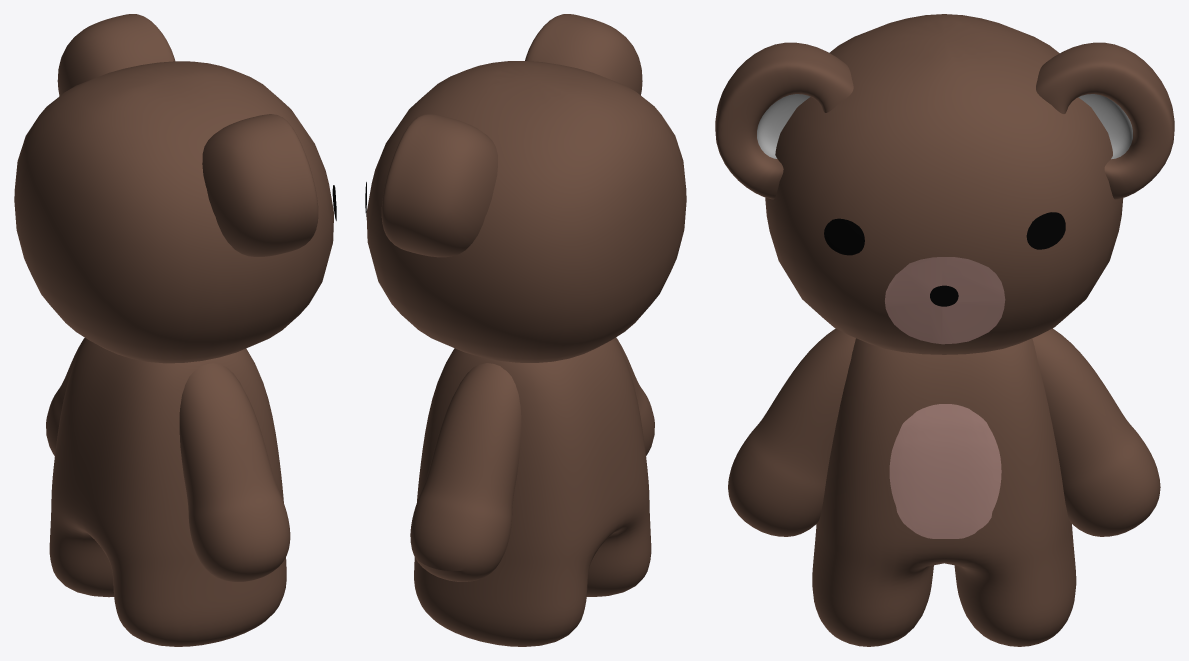
Rendered from doll_bear.fbx.
The picture shows the model from 3 angles, left to right: view 1: azimuth 30°, elevation 25°; view 2: azimuth 150°, elevation 25°; view 3: azimuth 270°, elevation 25°; orthographic projection. The views are drawn at different scales.
Parts seen in each view (by area): view 1: head, body, ear_left, ear_right; view 2: head, body, ear_right, ear_left; view 3: body, head, stomache, ear_right, ear_left, eye_right.002, eye_left.002, eye_right002.
Part boxes in pixels (x1=…): head: x1=14, y1=61, x2=334, y2=363; body: x1=46, y1=338, x2=290, y2=646; ear_left: x1=202, y1=114, x2=318, y2=256; ear_right: x1=57, y1=14, x2=175, y2=96; head: x1=366, y1=61, x2=686, y2=362; body: x1=410, y1=337, x2=654, y2=646; ear_right: x1=381, y1=114, x2=497, y2=257; ear_left: x1=525, y1=14, x2=642, y2=95; body: x1=728, y1=328, x2=1160, y2=646; head: x1=765, y1=14, x2=1123, y2=354; stomache: x1=889, y1=404, x2=1001, y2=538; ear_right: x1=1036, y1=42, x2=1174, y2=199; ear_left: x1=715, y1=42, x2=853, y2=199; eye_right.002: x1=885, y1=257, x2=1005, y2=344; eye_left.002: x1=824, y1=218, x2=864, y2=255; eye_right002: x1=1026, y1=212, x2=1065, y2=249.
Bounding box in the file's own units: 163 × 315 × 222.
